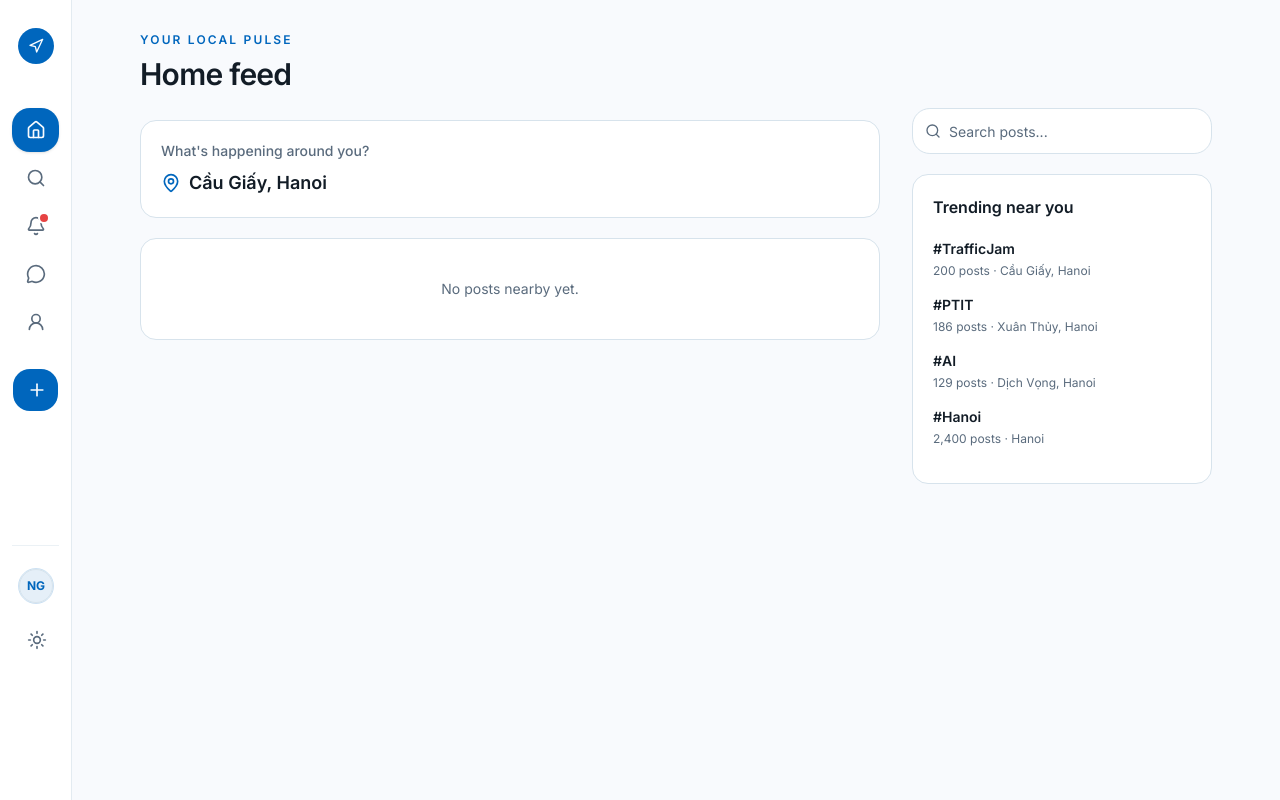
it: AppLayout › Home composer card opens the same dialog
The width and height of the screenshot is (1280, 800).
Click the text "What's happening around you?" at (265, 150), box [161,142,369,159]
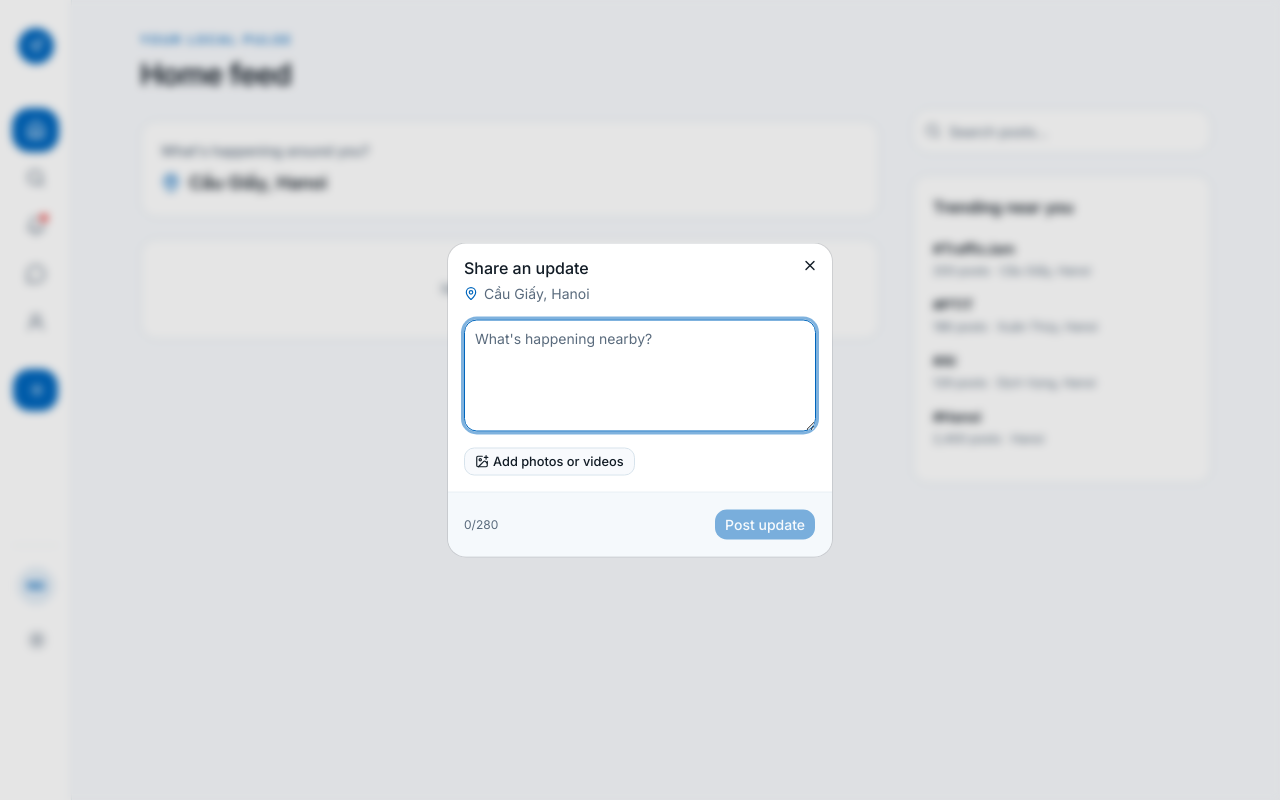
Expected: the dialog is shown, [448,244,832,556]
